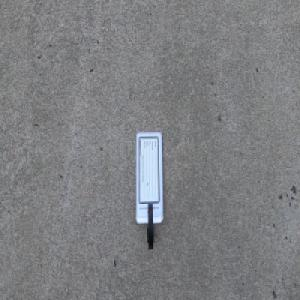LuggageTag: (134, 130, 164, 252)
